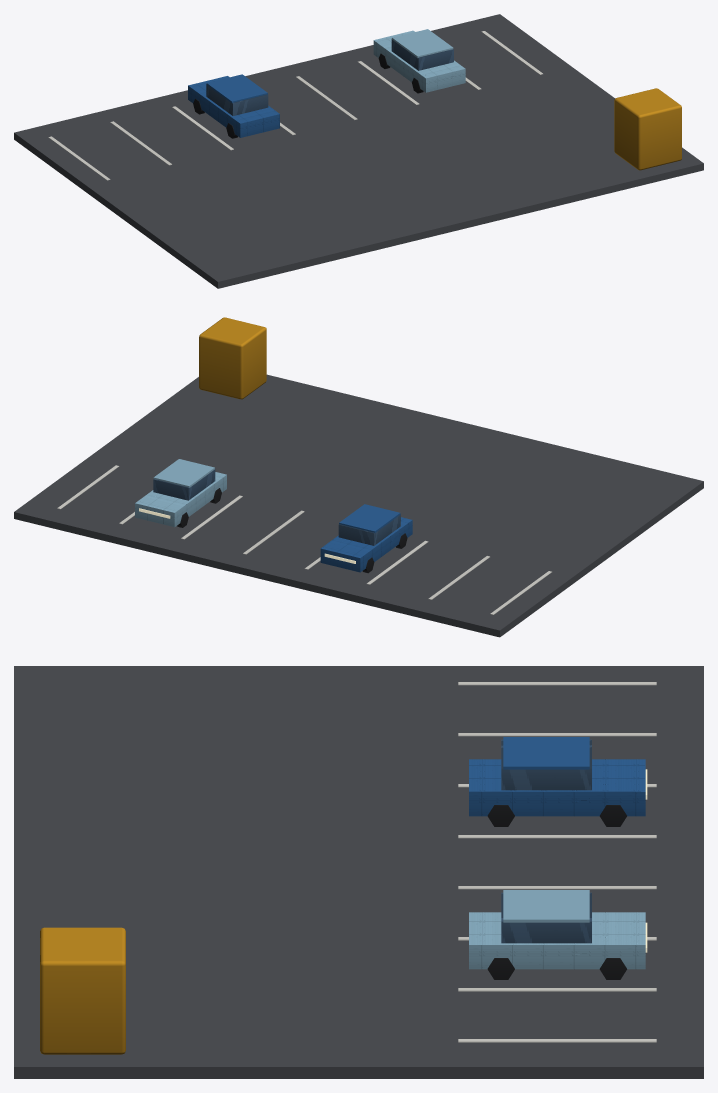
The model's file is estacionamento.glb.
3 views of the same model, one above another, from view 1: azimuth 30°, elevation 25°; view 2: azimuth 150°, elevation 25°; view 3: azimuth 270°, elevation 25° (orthographic). The views are drawn at different scales.
Parts seen in each view (by area): view 1: estacionamento_liso, estacionamento; view 2: estacionamento_liso, estacionamento; view 3: estacionamento_liso, estacionamento.
Part boxes in pixels (<box>): estacionamento_liso: <box>14,14,703,288</box>; estacionamento: <box>188,30,465,137</box>; estacionamento_liso: <box>14,317,703,637</box>; estacionamento: <box>135,468,412,572</box>; estacionamento_liso: <box>14,666,703,1078</box>; estacionamento: <box>469,739,647,969</box>.
Bounding box in the file's own units: 22 × 2.7 × 16.
Materials: 4 (2 with a texture image).
